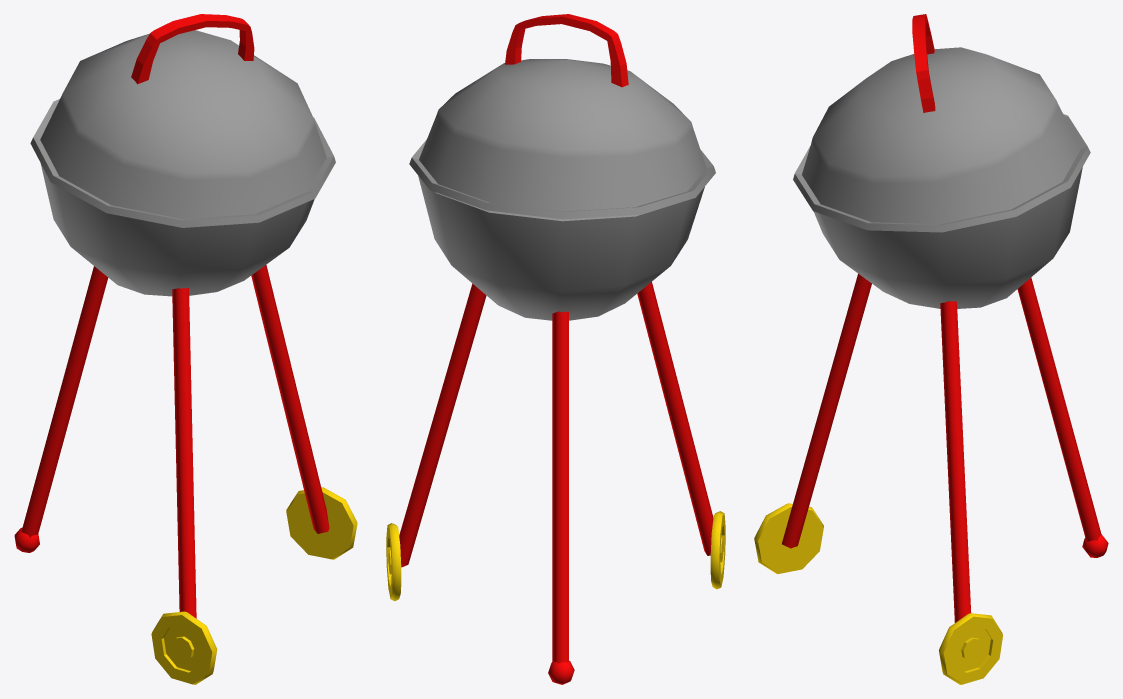
The model's file is BBQ.FBX.
3 renders of one model, left to right at view 1: azimuth 30°, elevation 25°; view 2: azimuth 150°, elevation 25°; view 3: azimuth 270°, elevation 25°, orthographic. The views are drawn at different scales.
Visible parts, largest first — view 1: BBQ; view 2: BBQ; view 3: BBQ.
Part boxes in pixels (left/top/right/bottom): BBQ: left=14, top=14, right=357, bottom=684; BBQ: left=386, top=14, right=725, bottom=684; BBQ: left=754, top=14, right=1108, bottom=684.
Size of the model in its own units: 40.61 by 75.13 by 41.45.
